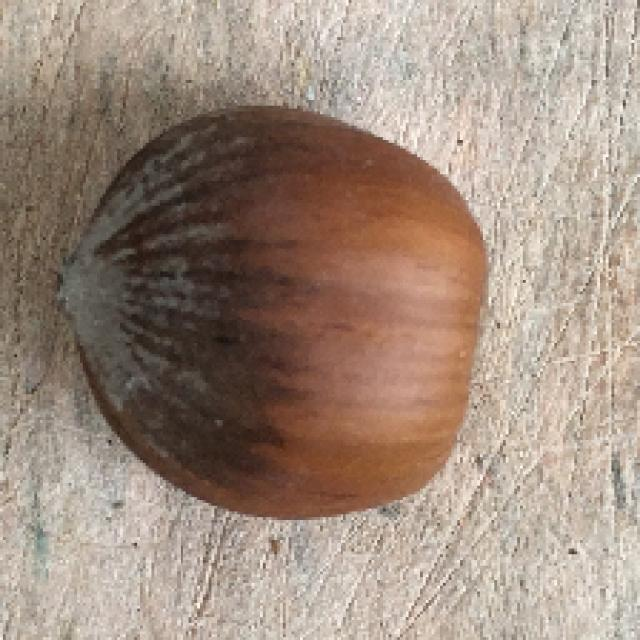damagedHazelnut: (55, 103, 496, 533)
